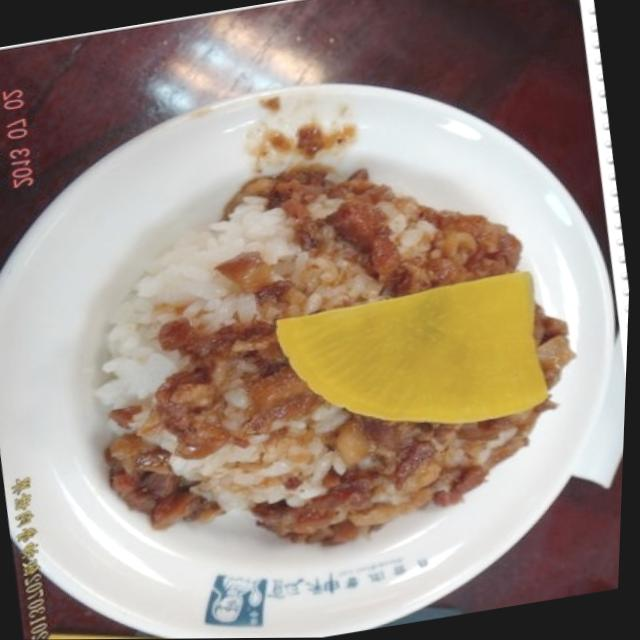猪肉菜式: (4, 60, 619, 639)
